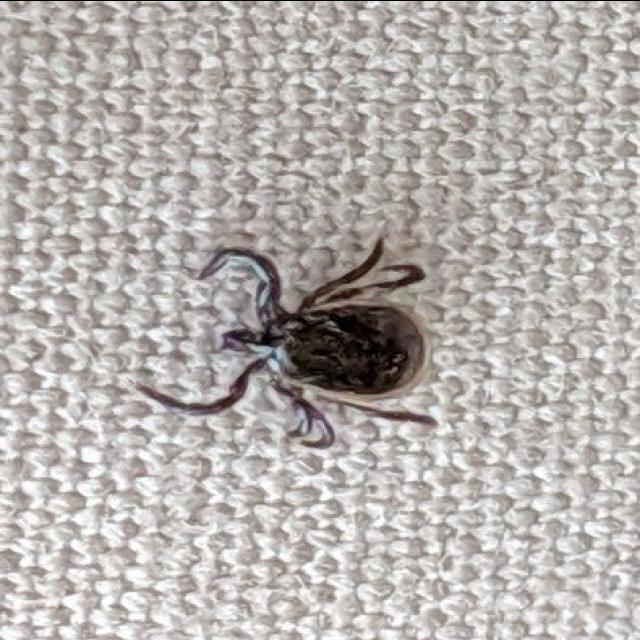Ixodes Ricinus-M: (134, 237, 441, 450)
